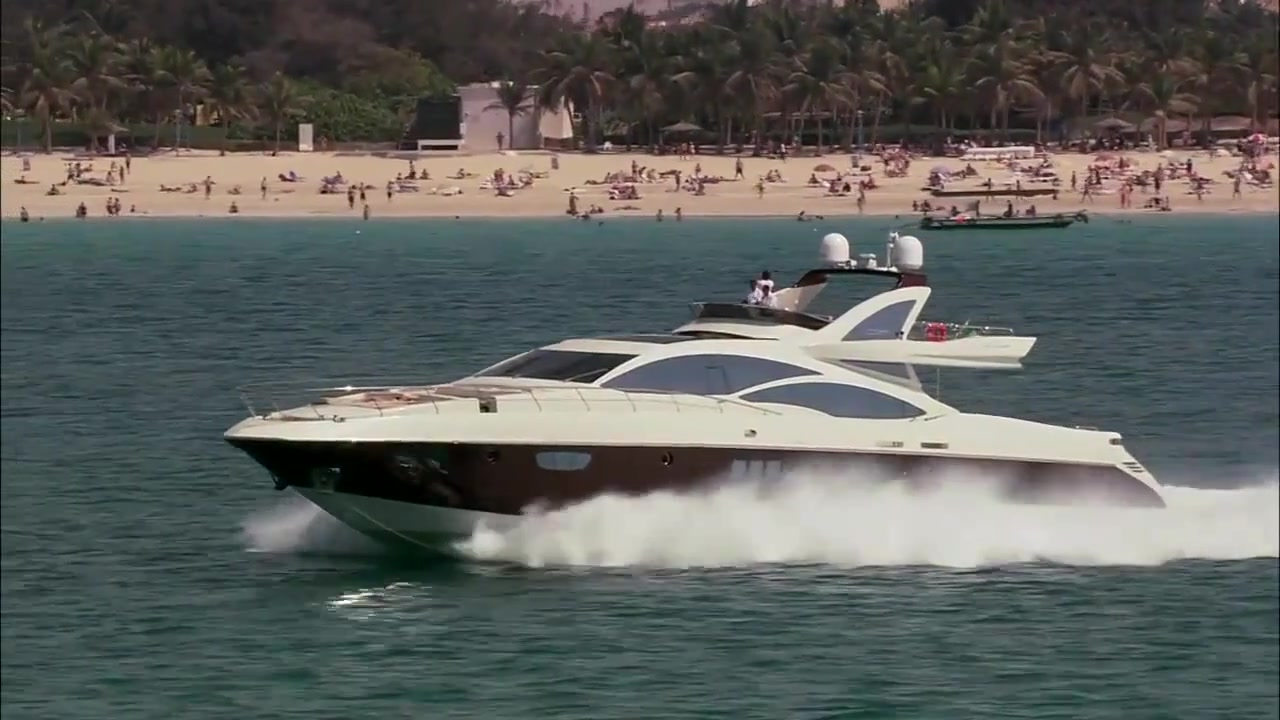boat: (223, 260, 1168, 562), (917, 212, 1078, 236), (930, 178, 1066, 202)
